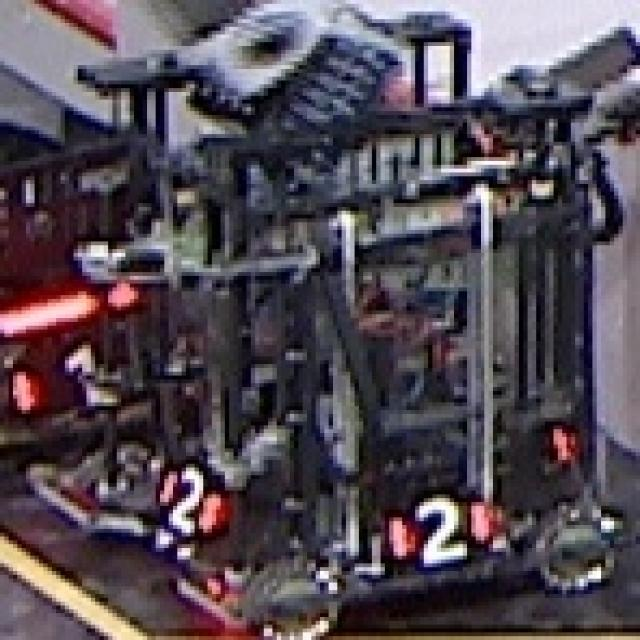R2: (380, 491, 498, 567), (147, 460, 229, 536)
